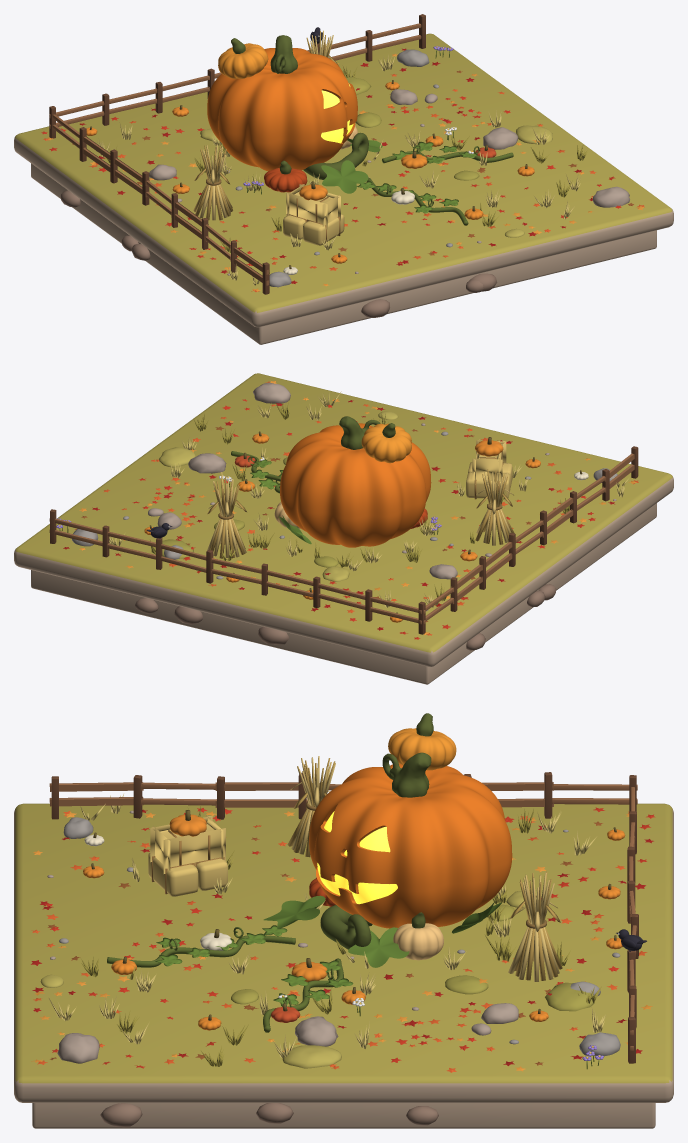
Rendered from pumpkin.glb.
3 views of the same model, one above another, from view 1: azimuth 30°, elevation 25°; view 2: azimuth 150°, elevation 25°; view 3: azimuth 270°, elevation 25° (orthographic). The views are drawn at different scales.
Parts seen in each view (by area): view 1: Base, Blossoms, Fence, Grass, Leaves, Rocks, HayBales, PatchVines, CornShocks, Trunk, Gourds; view 2: Base, Blossoms, Fence, Grass, CornShocks, Rocks, Leaves, HayBales, Gourds, Trunk, PatchVines; view 3: Base, Blossoms, Fence, Grass, HayBales, PatchVines, Leaves, CornShocks, Rocks, Trunk, Gourds.
Part boxes in pixels (x1=…): Base: x1=14, y1=33, x2=673, y2=344; Blossoms: x1=207, y1=43, x2=382, y2=193; Fence: x1=49, y1=14, x2=425, y2=294; Grass: x1=97, y1=54, x2=588, y2=285; Leaves: x1=41, y1=48, x2=644, y2=291; Rocks: x1=96, y1=49, x2=629, y2=287; HayBales: x1=283, y1=181, x2=344, y2=245; PatchVines: x1=357, y1=141, x2=513, y2=225; CornShocks: x1=193, y1=30, x2=338, y2=220; Trunk: x1=231, y1=35, x2=368, y2=179; Gourds: x1=86, y1=80, x2=534, y2=275; Base: x1=14, y1=373, x2=673, y2=684; Blossoms: x1=274, y1=423, x2=431, y2=547; Fence: x1=49, y1=446, x2=638, y2=634; Grass: x1=109, y1=391, x2=628, y2=607; CornShocks: x1=207, y1=469, x2=514, y2=558; Rocks: x1=72, y1=382, x2=617, y2=611; Leaves: x1=63, y1=380, x2=638, y2=639; HayBales: x1=466, y1=437, x2=512, y2=499; Gourds: x1=144, y1=431, x2=588, y2=622; Trunk: x1=339, y1=416, x2=395, y2=449; PatchVines: x1=231, y1=451, x2=283, y2=493; Base: x1=14, y1=803, x2=673, y2=1128; Blossoms: x1=263, y1=728, x2=512, y2=967; Fence: x1=49, y1=772, x2=638, y2=1063; Grass: x1=40, y1=794, x2=605, y2=1068; HayBales: x1=148, y1=810, x2=227, y2=896; PatchVines: x1=107, y1=925, x2=353, y2=1032; Leaves: x1=31, y1=807, x2=655, y2=1072; CornShocks: x1=287, y1=756, x2=562, y2=981; Rocks: x1=47, y1=810, x2=620, y2=1063; Trunk: x1=320, y1=713, x2=433, y2=949; Gourds: x1=83, y1=827, x2=625, y2=1030.
Bounding box in the file's own units: 72 × 28.02 × 72.
